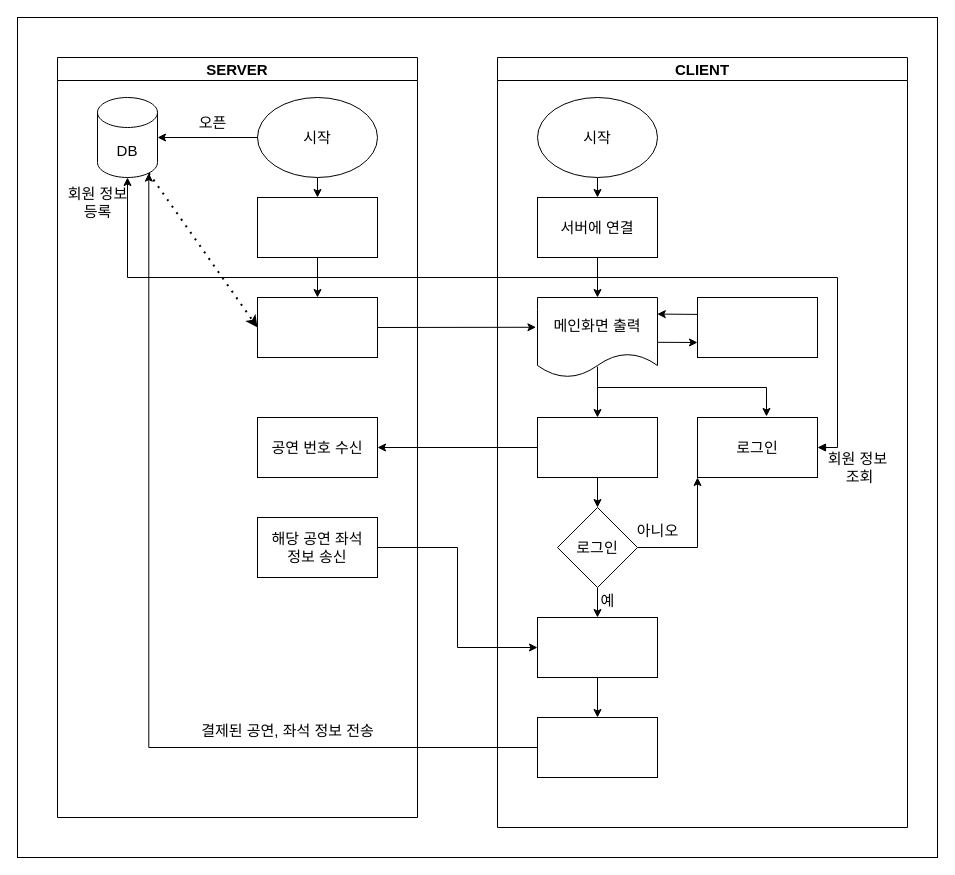
Image size: 955x875. Some labels were removed from this diagram. Here are the shapes that lost their labels. From the top down, the centre of each, then its label:
point 317,227: 클라이언트 연결 대기
point 317,327: 공연 목록 전송
point 757,327: 검색
point 597,447: 공연 선택
point 597,647: 공연 예매
point 597,747: 결제
